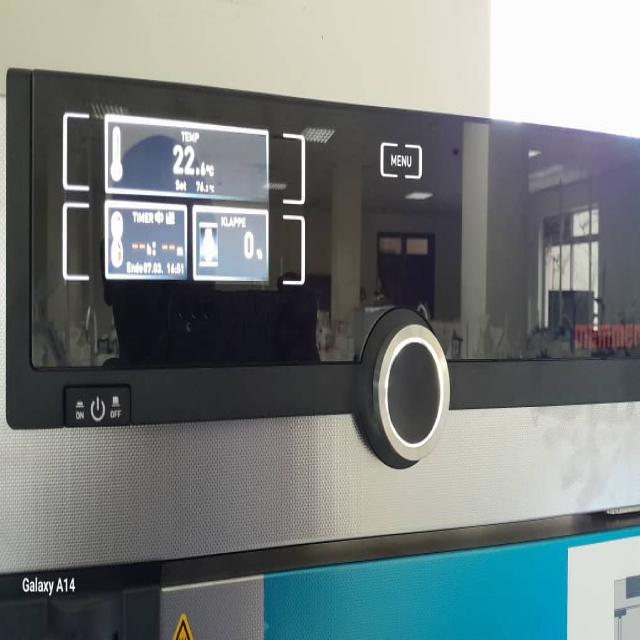Incubator: (7, 43, 640, 630)
